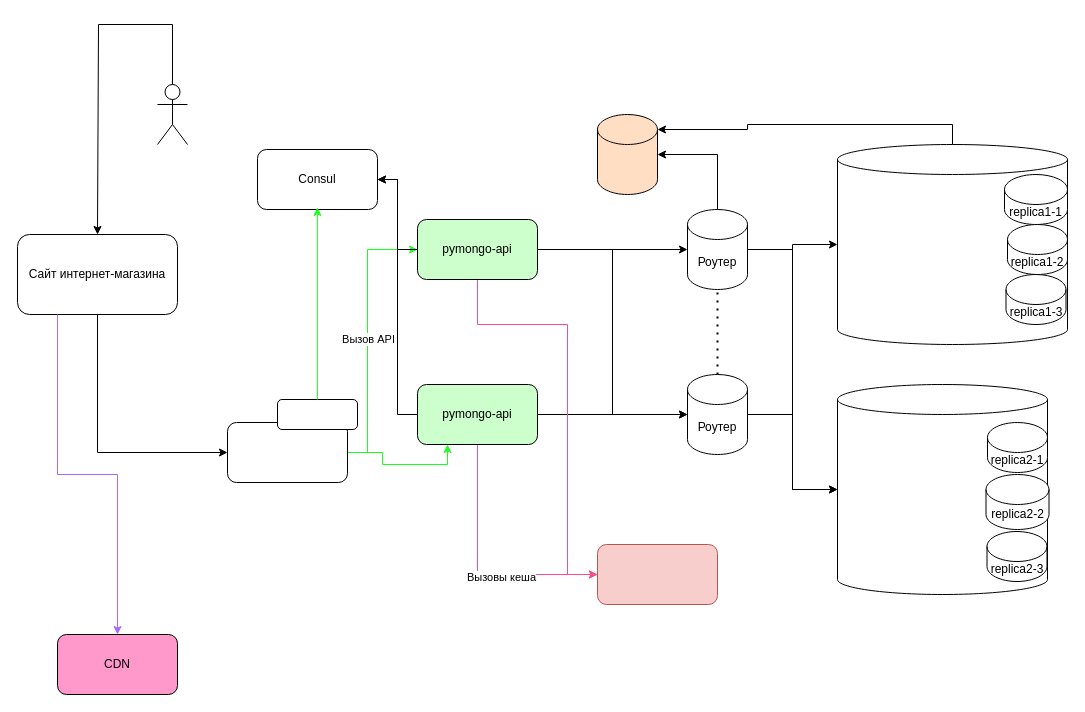
This 1085x712 diagram has some shape labels left out. The shapes that lost their labels are listed below. From the top down, each one's box as (x1, y1, x2, y2) in pixels, then its label:
(156, 84, 188, 144): Клиент
(596, 114, 658, 194): configSrv
(836, 144, 1068, 344): shard1-1
(276, 398, 358, 430): consul_kv
(226, 422, 348, 482): API Gateway
(836, 384, 1048, 594): shard2-1
(596, 544, 718, 604): Redis
